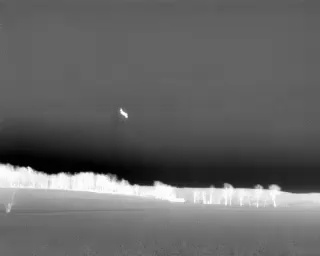DRONE: (116, 104, 132, 124)
